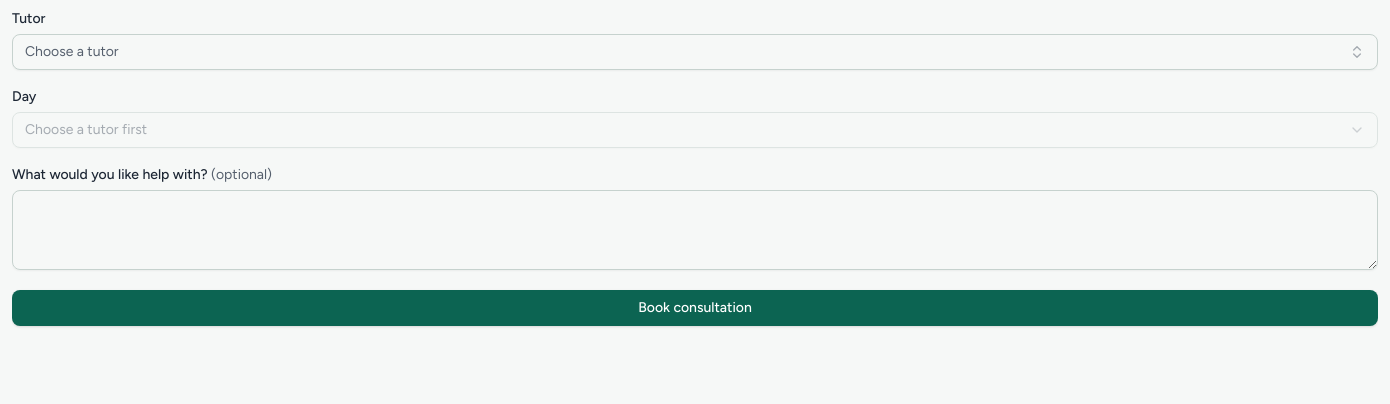
Test: the form › will not submit without a tutor and a time, and says what is missing
Click the button "Book consultation" at [695, 308], box [12,290,1378,326]
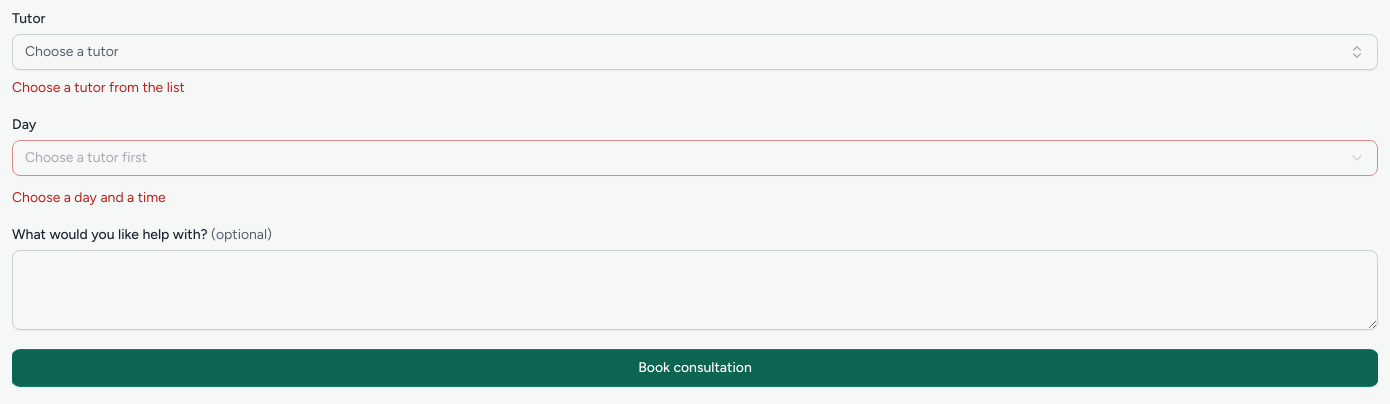
Check: the text "Choose a tutor from the list" is shown, box [12,79,185,96]
Check: the text "Choose a day and a time" is shown, box [12,189,166,206]
